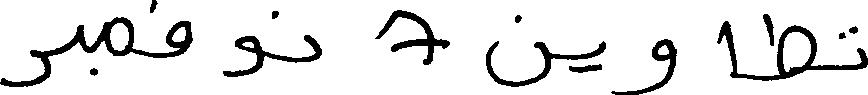X: (487, 10, 548, 91), (377, 5, 446, 69), (764, 9, 814, 85), (624, 34, 673, 94), (0, 45, 48, 91), (224, 31, 263, 81), (105, 12, 130, 60), (167, 16, 191, 61), (725, 16, 737, 82), (306, 30, 319, 66), (859, 43, 867, 73), (598, 36, 604, 74), (76, 20, 81, 50)
